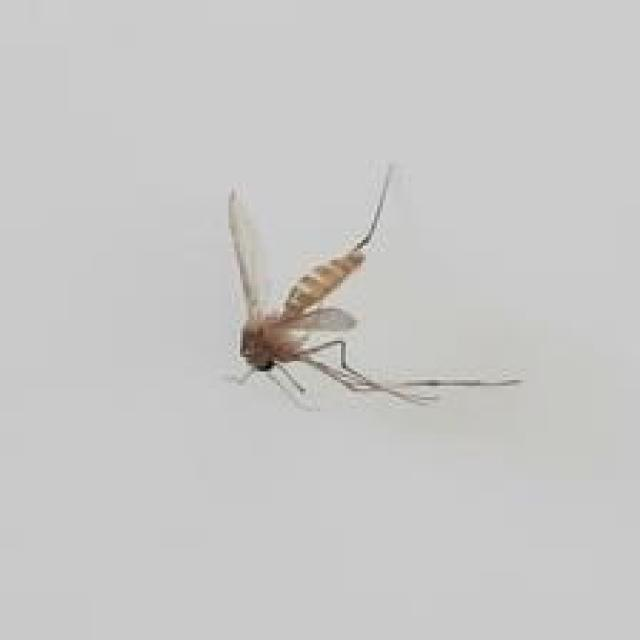Culex: (223, 160, 523, 411)
